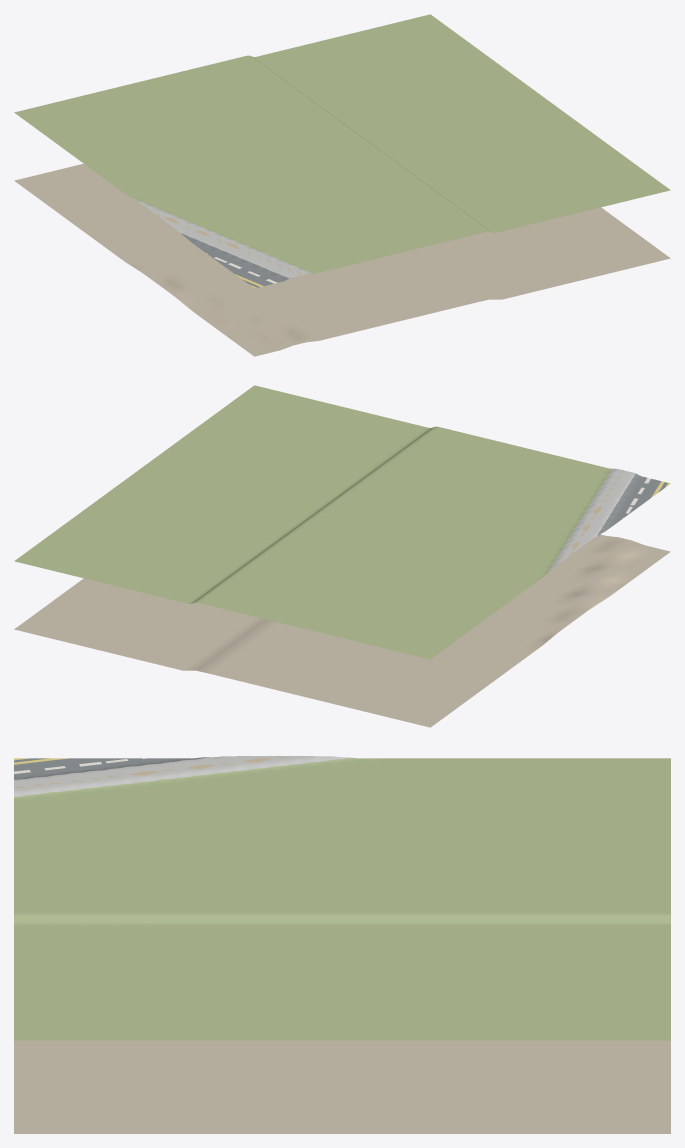
3 views of the same model, one above another, from view 1: azimuth 30°, elevation 25°; view 2: azimuth 150°, elevation 25°; view 3: azimuth 270°, elevation 25° (orthographic). The views are drawn at different scales.
Parts seen in each view (by area): view 1: s_1_-3__grass, s_1_-3__soil, s_1_-3__stone_paving, s_1_-3__asphalt; view 2: s_1_-3__grass, s_1_-3__soil, s_1_-3__stone_paving, s_1_-3__asphalt; view 3: s_1_-3__grass, s_1_-3__soil, s_1_-3__stone_paving, s_1_-3__asphalt.
Part boxes in pixels (bbox=[...]): s_1_-3__grass: bbox=[14, 14, 670, 273]; s_1_-3__soil: bbox=[14, 163, 670, 356]; s_1_-3__stone_paving: bbox=[131, 197, 311, 278]; s_1_-3__asphalt: bbox=[181, 233, 289, 287]; s_1_-3__grass: bbox=[14, 385, 611, 659]; s_1_-3__soil: bbox=[14, 534, 670, 727]; s_1_-3__stone_paving: bbox=[547, 468, 635, 573]; s_1_-3__asphalt: bbox=[597, 473, 667, 536]; s_1_-3__grass: bbox=[14, 758, 670, 1040]; s_1_-3__soil: bbox=[14, 1040, 670, 1133]; s_1_-3__stone_paving: bbox=[14, 756, 352, 796]; s_1_-3__asphalt: bbox=[14, 757, 210, 779].
Size of the model in its own units: 128 by 21.51 by 128.
